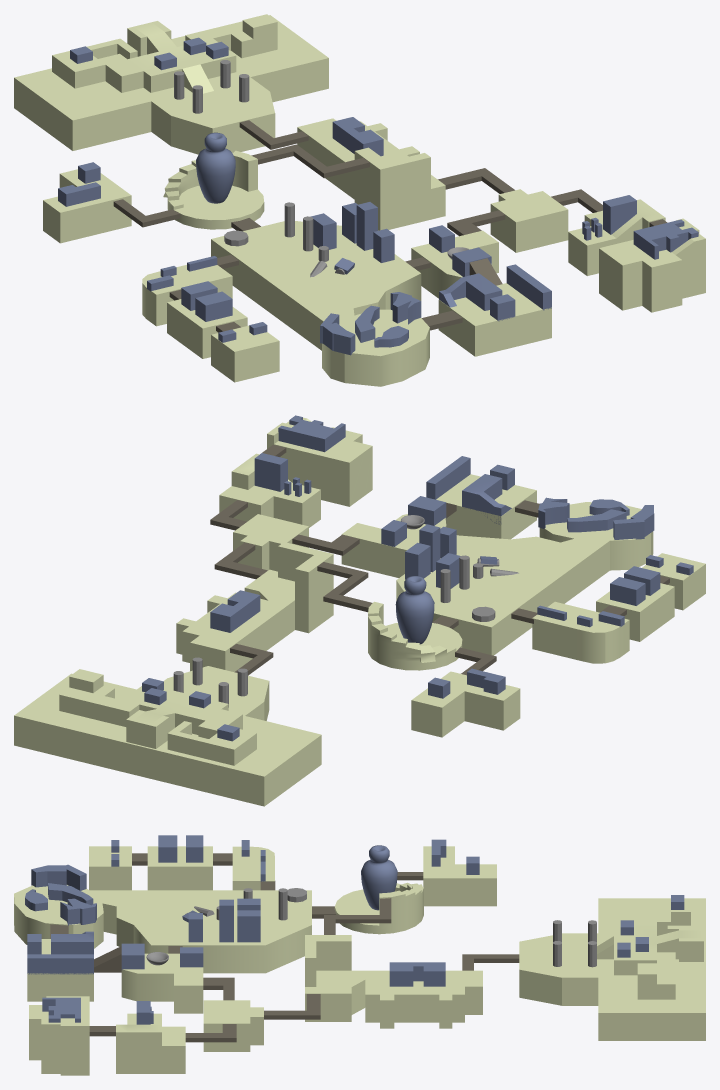
Rendered from GrayBox.fbx.
3 renders of one model, top to bottom at view 1: azimuth 30°, elevation 25°; view 2: azimuth 150°, elevation 25°; view 3: azimuth 270°, elevation 25°, orthographic. The views are drawn at different scales.
Visible parts, largest first — view 1: Puzzle12, Puzzle3, Puzzle14, Puzzle11, Puzzle10, Puzzle6, Puzzle4, Puzzle8, Puzzle13, Puzzle, Puzzle9, Puzzle5 (+24 smaller); view 2: Puzzle12, Puzzle3, Puzzle11, Puzzle14, Puzzle10, Puzzle13, Puzzle2, Puzzle6, Puzzle9, Puzzle4, Puzzle5, Puzzle8 (+22 smaller); view 3: Puzzle3, Puzzle12, Puzzle11, Puzzle14, Puzzle10, Puzzle9, Puzzle5, Puzzle13, Puzzle6, Puzzle8, Puzzle1, Puzzle4 (+26 smaller).
Boxes of the visible parts, x1,y1,x2,y2 form: Puzzle12: (14,15,328,154); Puzzle3: (211,221,429,386); Puzzle14: (52,14,277,93); Puzzle11: (297,118,445,230); Puzzle10: (599,218,705,312); Puzzle6: (163,150,264,229); Puzzle4: (438,283,551,356); Puzzle8: (490,189,568,252); Puzzle13: (43,169,131,243); Puzzle: (211,325,279,382); Puzzle9: (568,199,665,275); Puzzle5: (411,230,498,298); Puzzle12: (14,666,321,806); Puzzle3: (396,502,653,655); Puzzle11: (176,542,333,671); Puzzle14: (59,669,256,765); Puzzle10: (267,417,372,506); Puzzle13: (411,671,520,737); Puzzle2: (532,601,629,663); Puzzle6: (368,601,462,670); Puzzle9: (219,453,320,527); Puzzle4: (436,474,536,539); Puzzle5: (341,514,446,577); Puzzle8: (233,514,308,571); Puzzle3: (14,885,311,973); Puzzle12: (519,898,705,1040); Puzzle11: (305,935,482,1028); Puzzle14: (597,898,703,999); Puzzle10: (29,996,89,1075); Puzzle9: (116,1013,185,1073); Puzzle5: (121,953,203,1013); Puzzle13: (423,846,496,906); Puzzle6: (334,882,423,934); Puzzle8: (203,1000,263,1051); Puzzle1: (147,846,212,890); Puzzle4: (27,939,93,1001).
Size of the model in its own units: 99.78 by 20.76 by 145.
